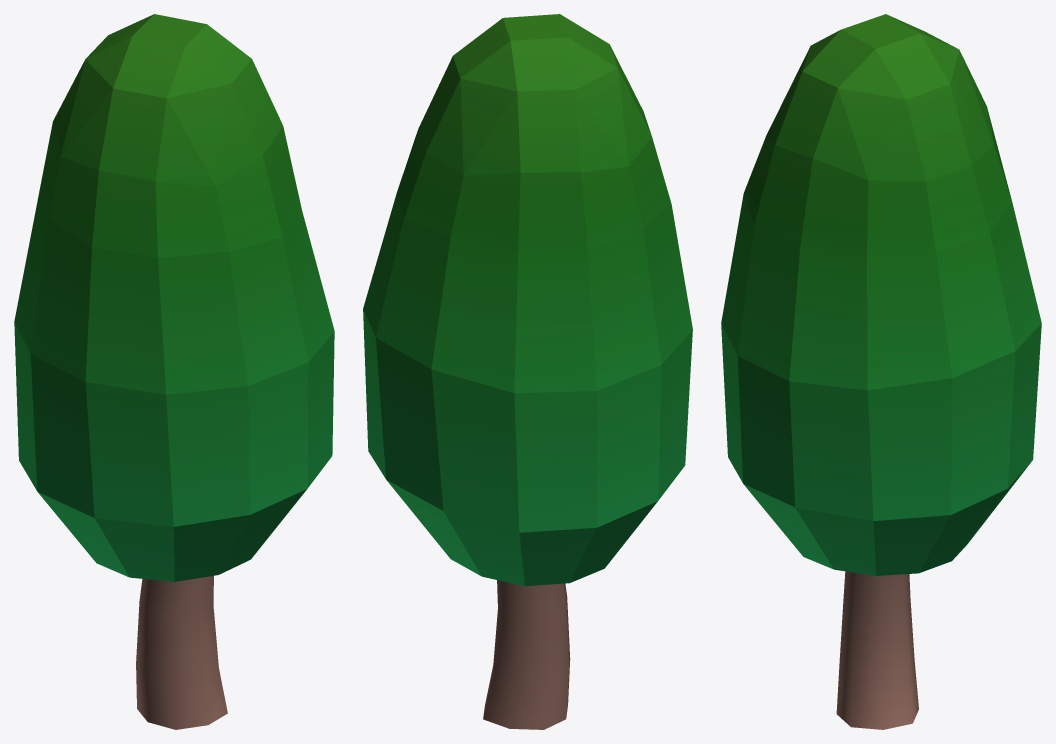
The model's file is SM_Exterior_Seto_01.fbx.
The picture shows the model from 3 angles, left to right: view 1: azimuth 30°, elevation 25°; view 2: azimuth 150°, elevation 25°; view 3: azimuth 270°, elevation 25°; orthographic projection. The views are drawn at different scales.
Visible parts, largest first — view 1: SM_Exterior_Seto1; view 2: SM_Exterior_Seto1; view 3: SM_Exterior_Seto1.
Boxes of the visible parts, <box> form: SM_Exterior_Seto1: <box>14,14,334,729</box>; SM_Exterior_Seto1: <box>363,14,692,729</box>; SM_Exterior_Seto1: <box>721,14,1041,729</box>.
Bounding box in the file's own units: 196 × 465 × 200.
